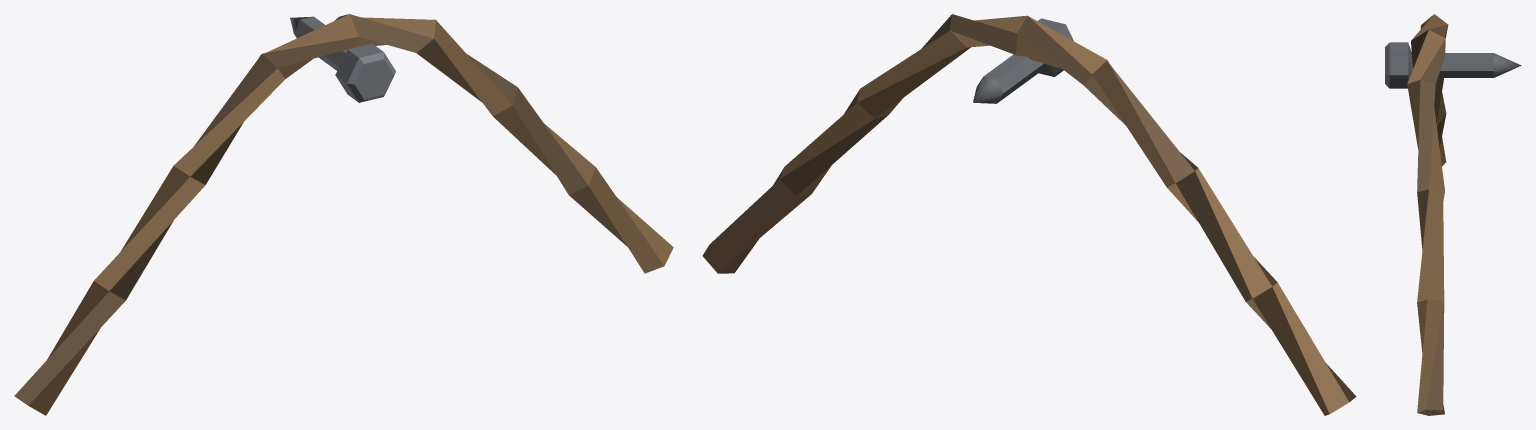
Rendered from SM_Prop_Sign_Chain_03.glb.
3 renders of one model, left to right at view 1: azimuth 30°, elevation 25°; view 2: azimuth 150°, elevation 25°; view 3: azimuth 270°, elevation 25°, orthographic. The views are drawn at different scales.
Visible parts, largest first — view 1: SM_Prop_Sign_Chain_03; view 2: SM_Prop_Sign_Chain_03; view 3: SM_Prop_Sign_Chain_03.
Boxes of the visible parts, x1,y1,x2,y2 form: SM_Prop_Sign_Chain_03: (14, 14, 673, 415); SM_Prop_Sign_Chain_03: (702, 14, 1356, 415); SM_Prop_Sign_Chain_03: (1385, 14, 1521, 415).
Bounding box in the file's own units: 50.51 × 24.55 × 11.3.
1 material, 1 textured.
